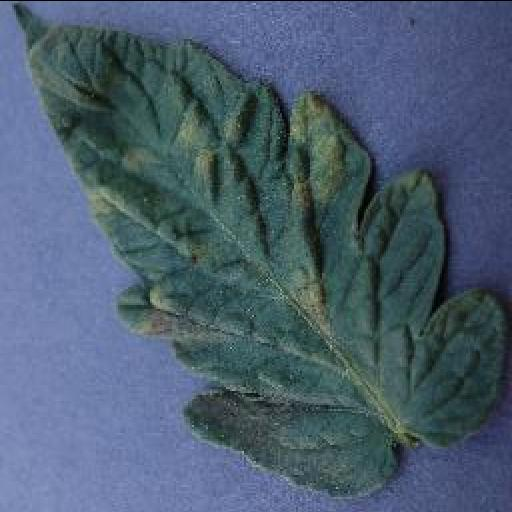disease_tomato: (12, 0, 510, 498)
